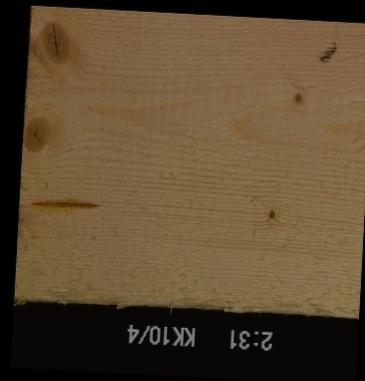dry_knot: (265, 206, 277, 219)
sound_knot: (33, 20, 74, 67), (22, 112, 53, 154), (290, 89, 304, 105)
